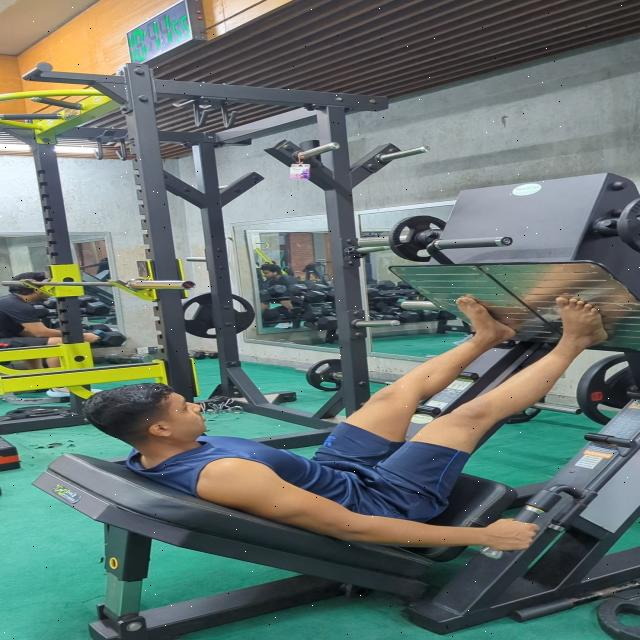Normal_LegPress: (62, 288, 637, 565)
